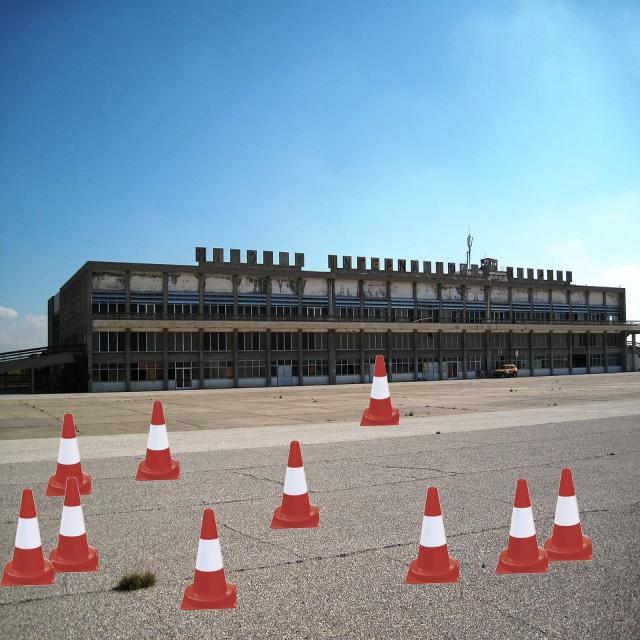orange_cone: (180, 509, 236, 610), (405, 487, 459, 584), (0, 489, 54, 586), (45, 477, 98, 573), (495, 479, 548, 574), (540, 468, 592, 561), (270, 441, 319, 528), (45, 413, 91, 496), (135, 400, 179, 480), (360, 355, 399, 426)
